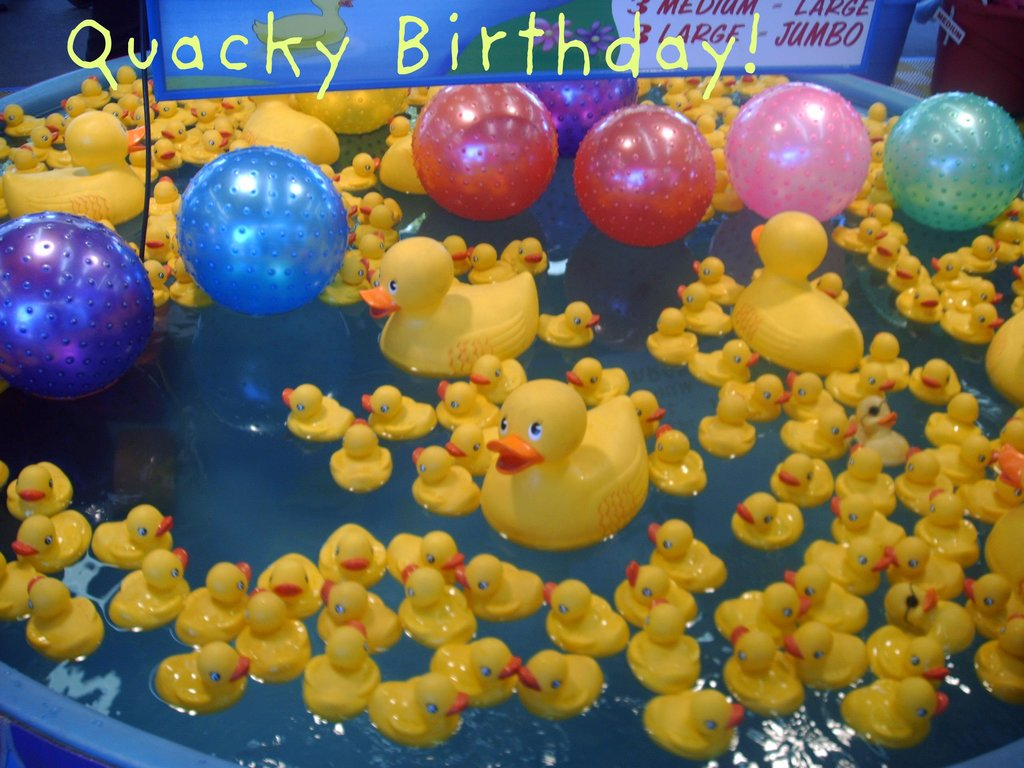Ball: (173, 140, 349, 312), (0, 213, 159, 403), (413, 78, 562, 217), (886, 91, 1023, 236), (573, 106, 710, 241), (731, 87, 866, 223), (525, 79, 633, 138)
